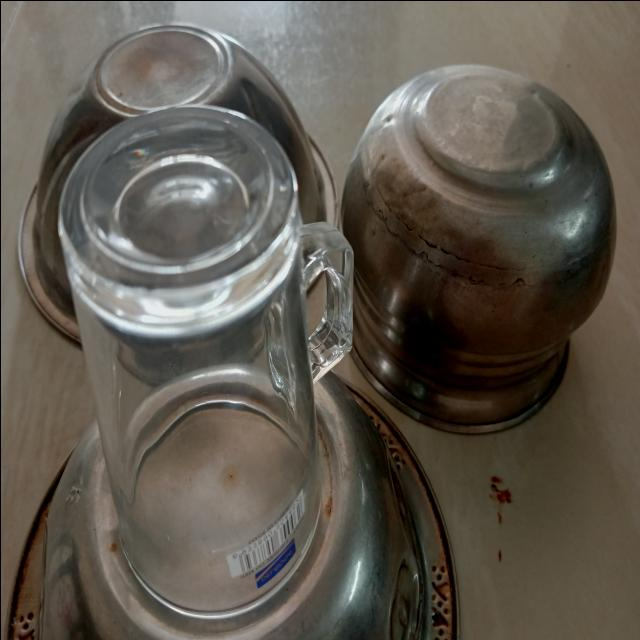glass-VX4N: (53, 104, 356, 605)
